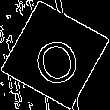O_N: (27, 25, 83, 85)
